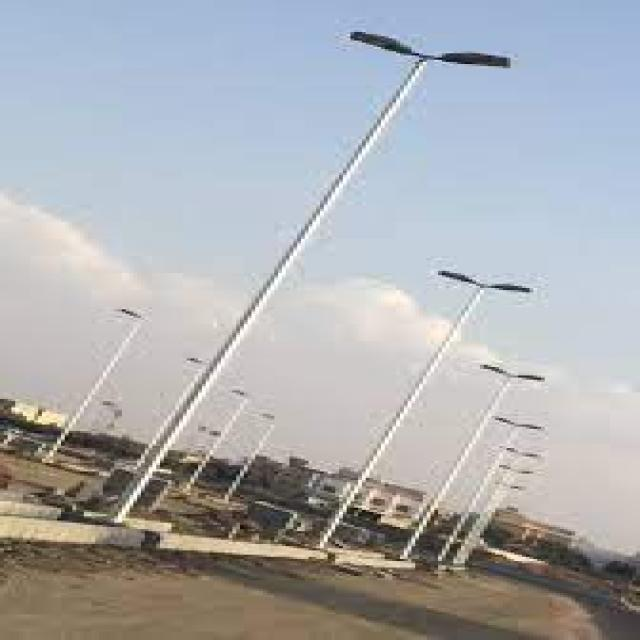Street Light: (99, 30, 511, 529), (305, 269, 533, 548), (388, 363, 544, 563), (430, 416, 541, 565), (38, 307, 145, 461)
